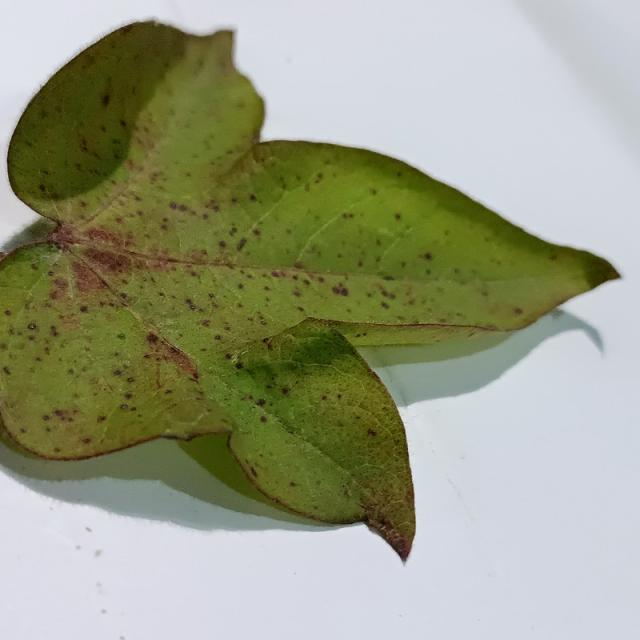Bacterial_Blight: (267, 331, 355, 370), (81, 247, 131, 278), (376, 519, 412, 559), (99, 128, 128, 166), (331, 279, 354, 300), (38, 181, 60, 199), (52, 408, 76, 422), (53, 278, 70, 292), (170, 202, 191, 213), (190, 249, 208, 260), (380, 288, 396, 300), (378, 518, 391, 530), (236, 238, 247, 251), (146, 332, 159, 343), (102, 93, 111, 106), (187, 300, 197, 311), (49, 325, 59, 336), (271, 270, 284, 278), (293, 261, 304, 270), (249, 466, 258, 477), (382, 274, 396, 281), (256, 398, 266, 407), (367, 428, 377, 437), (228, 226, 238, 235), (210, 203, 220, 212), (118, 292, 128, 301), (314, 174, 324, 183), (342, 212, 354, 219), (218, 240, 227, 249), (252, 228, 261, 237), (2, 366, 11, 375), (262, 337, 271, 346), (189, 373, 198, 382), (549, 251, 558, 260), (423, 252, 433, 260), (201, 319, 211, 327), (27, 323, 37, 331), (168, 202, 178, 210), (513, 307, 523, 315), (235, 362, 244, 370), (124, 392, 133, 400), (38, 183, 46, 192), (119, 119, 127, 128), (113, 369, 123, 376), (394, 213, 402, 221), (249, 194, 257, 202), (293, 289, 301, 297), (237, 282, 245, 290), (160, 223, 168, 231), (79, 305, 88, 312), (381, 302, 390, 309), (120, 403, 129, 410), (281, 387, 290, 394), (97, 415, 106, 422), (3, 309, 12, 316), (117, 332, 126, 339), (82, 437, 91, 444), (260, 415, 267, 423), (224, 352, 232, 359), (370, 188, 378, 195), (230, 197, 238, 204), (19, 427, 27, 434), (214, 334, 221, 341), (202, 213, 209, 220), (208, 292, 215, 299), (424, 268, 431, 275), (126, 377, 134, 383), (289, 481, 297, 487), (297, 306, 305, 312), (53, 447, 61, 453), (321, 395, 328, 401), (375, 239, 382, 245), (400, 261, 406, 268), (357, 261, 363, 267)
Cotton: (0, 21, 618, 558)
